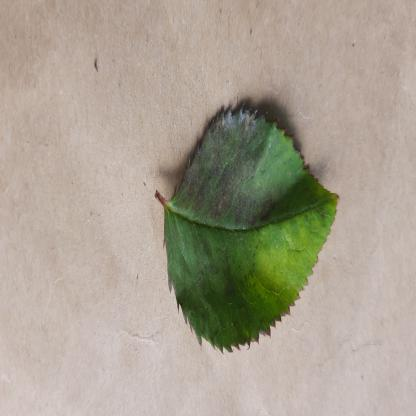downy-mildew: (161, 98, 341, 356)
